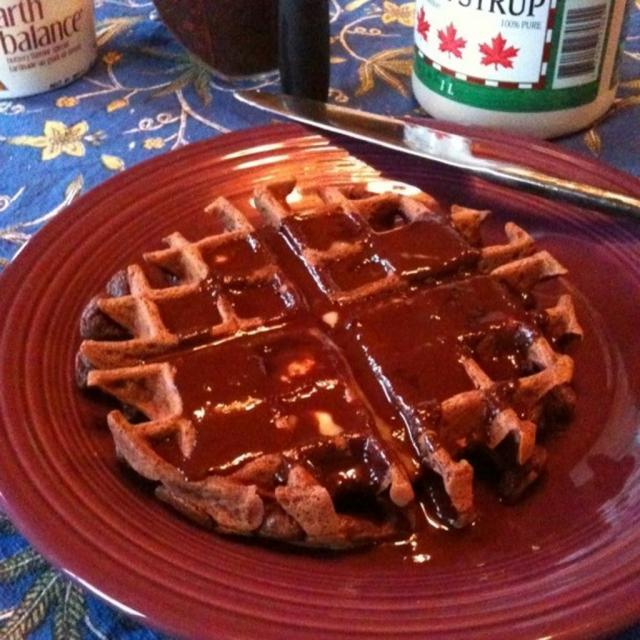Waffle: (75, 174, 583, 554), (76, 174, 586, 547)
